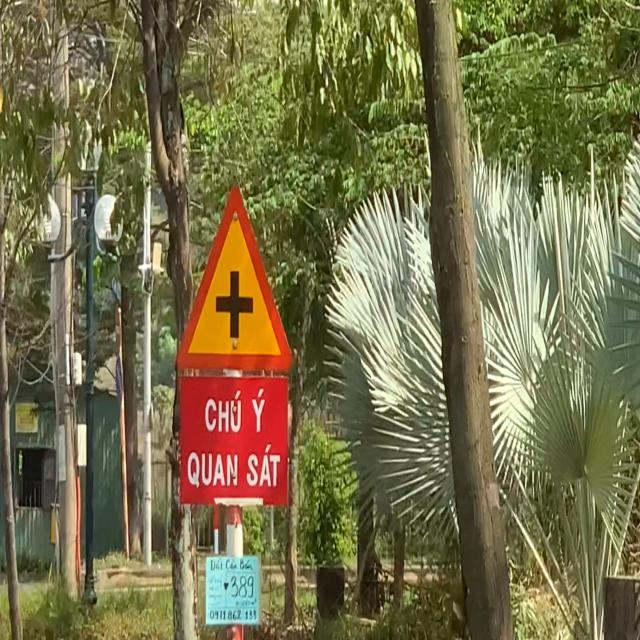Duong giao nhau: (171, 174, 297, 379)
